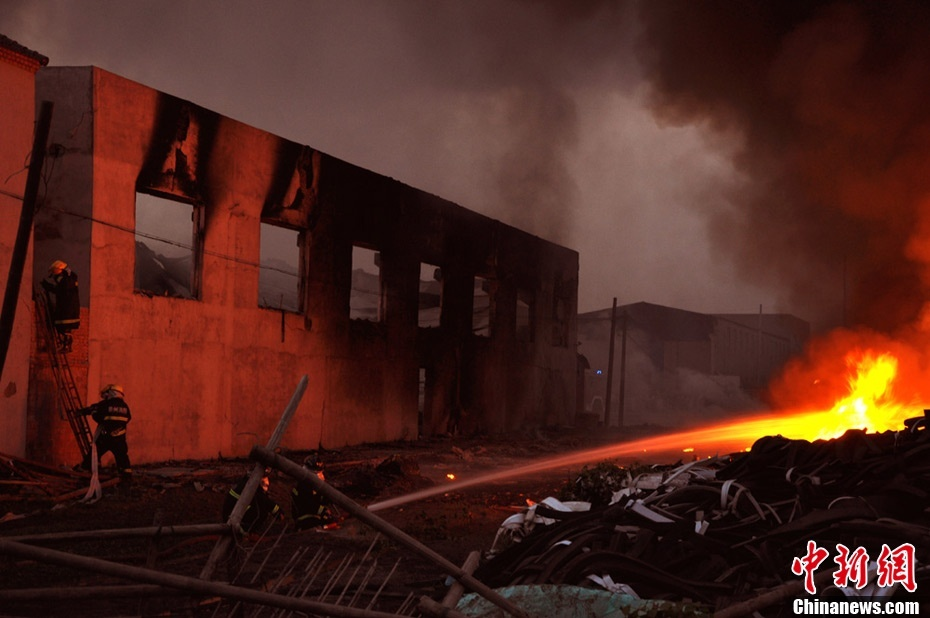fire: (695, 350, 919, 448)
